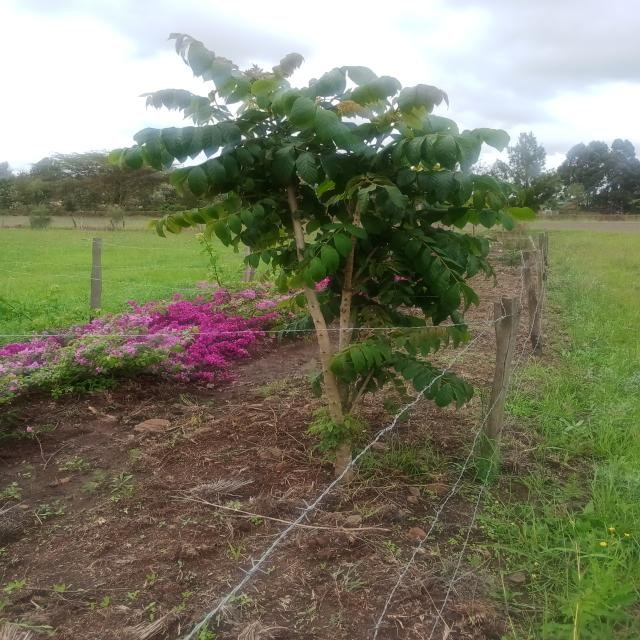Polyscias Kikuyensis: (108, 17, 534, 485)
